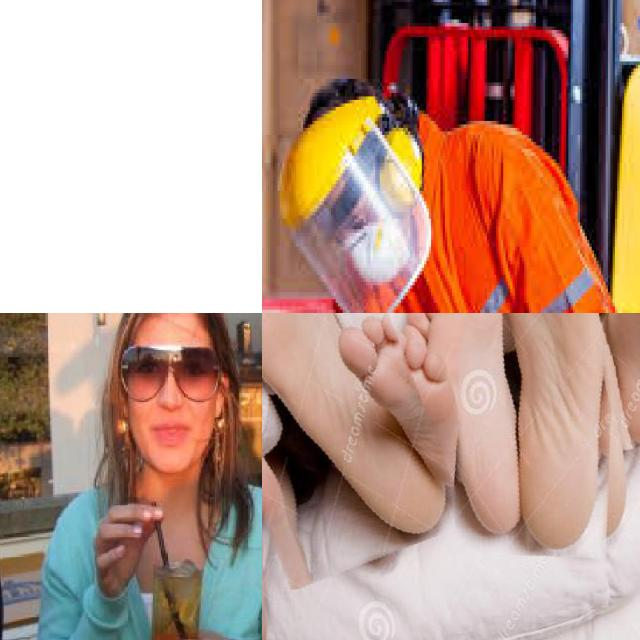Barefoots: (262, 313, 461, 537), (395, 313, 527, 543), (503, 313, 606, 556)
Ear-protection: (375, 107, 424, 215)
face_nomask: (124, 342, 218, 452)
glasses: (117, 343, 229, 401)
hand_noglove: (91, 500, 163, 598)
person: (266, 74, 640, 313), (31, 313, 262, 640)
